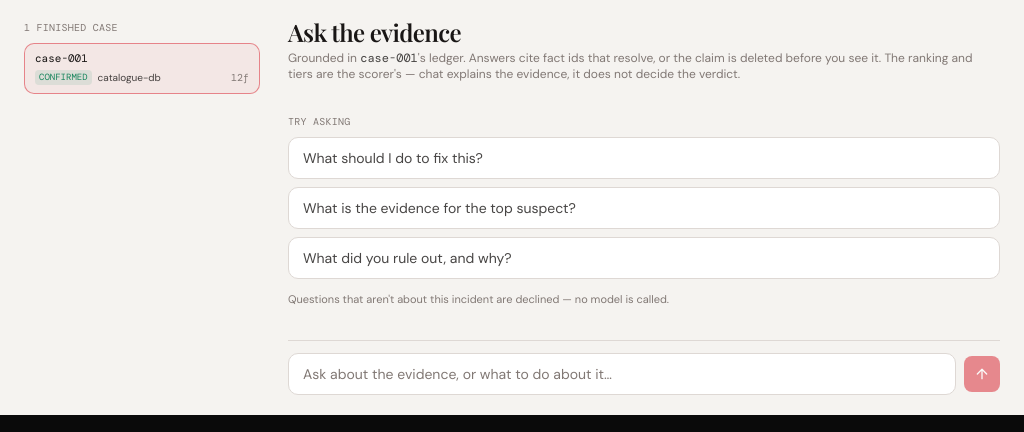
ChatView › says the run has no verdict yet rather than showing a raw error
Click the button "What should I do to fix this?". click: click(393, 158)
box: [288, 137, 1000, 179]
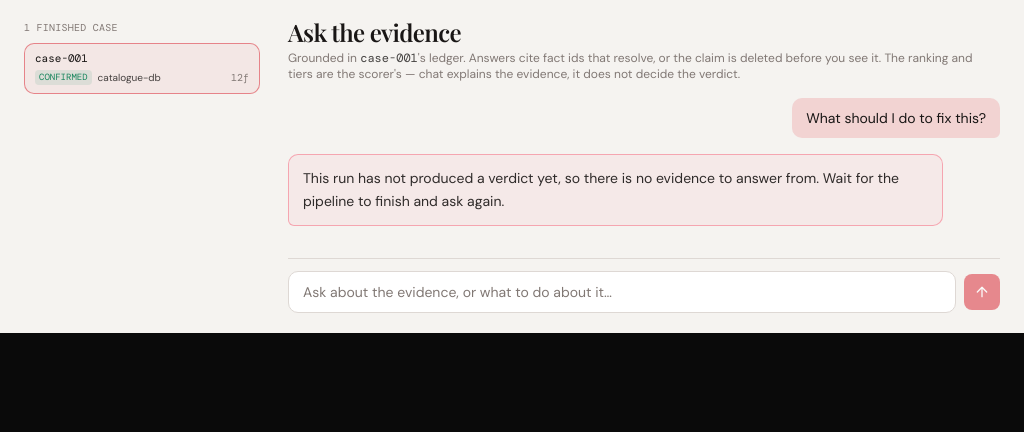
Check: the text "has not produced a verdict yet" is shown, box [303, 169, 899, 210]
